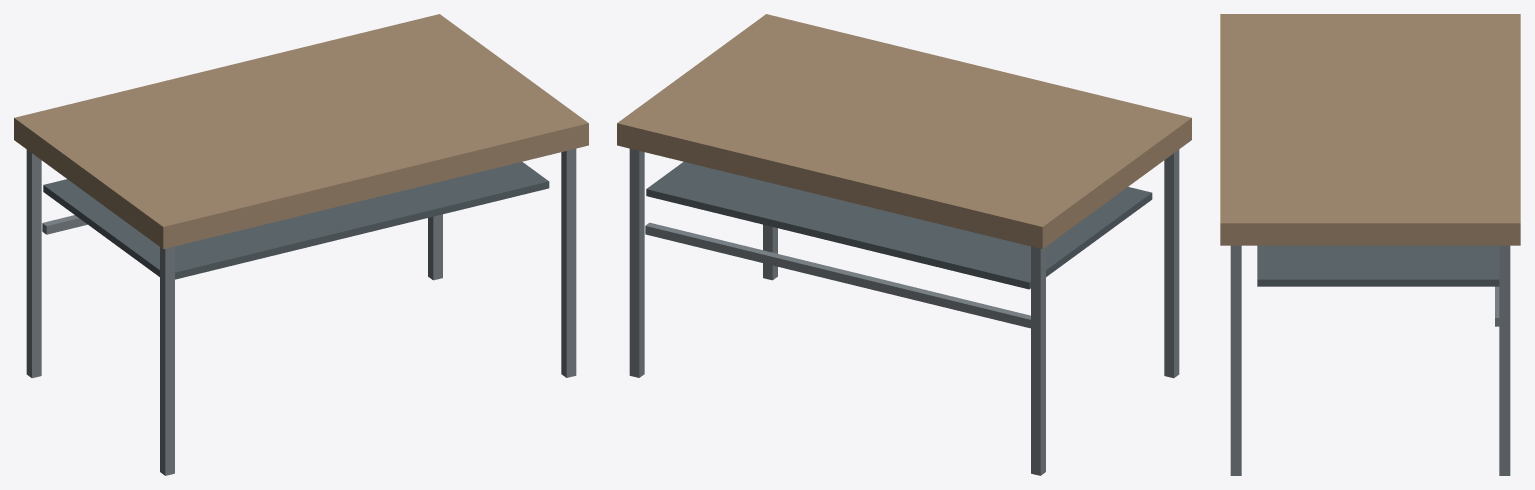
File: GYM-004.glb
The picture shows the model from 3 angles, left to right: view 1: azimuth 30°, elevation 25°; view 2: azimuth 150°, elevation 25°; view 3: azimuth 270°, elevation 25°; orthographic projection.
Visible parts, largest first — view 1: 000_Wood_desk_top, 006_Shelf_beneath_top, 003_Steel_frame, 002_Steel_frame, 001_Steel_frame, 004_Steel_frame; view 2: 000_Wood_desk_top, 006_Shelf_beneath_top, 005_Rear_brace, 004_Steel_frame, 001_Steel_frame, 002_Steel_frame, 003_Steel_frame; view 3: 000_Wood_desk_top, 006_Shelf_beneath_top, 003_Steel_frame, 004_Steel_frame.
Boxes of the visible parts, box(x1,y1,x2,y2) form: 000_Wood_desk_top: box(14, 14, 588, 249); 006_Shelf_beneath_top: box(43, 162, 549, 279); 003_Steel_frame: box(561, 148, 576, 377); 002_Steel_frame: box(26, 149, 41, 378); 001_Steel_frame: box(160, 246, 174, 475); 004_Steel_frame: box(428, 214, 442, 280); 000_Wood_desk_top: box(617, 14, 1191, 249); 006_Shelf_beneath_top: box(646, 162, 1152, 289); 005_Rear_brace: box(645, 222, 1030, 328); 004_Steel_frame: box(629, 148, 644, 377); 001_Steel_frame: box(1164, 149, 1179, 378); 002_Steel_frame: box(1031, 246, 1045, 475); 003_Steel_frame: box(763, 224, 777, 280); 000_Wood_desk_top: box(1220, 14, 1520, 245); 006_Shelf_beneath_top: box(1257, 245, 1499, 286); 003_Steel_frame: box(1230, 245, 1241, 475); 004_Steel_frame: box(1499, 245, 1510, 475).
Bounding box in the file's own units: 1.4 × 0.8 × 0.85.
